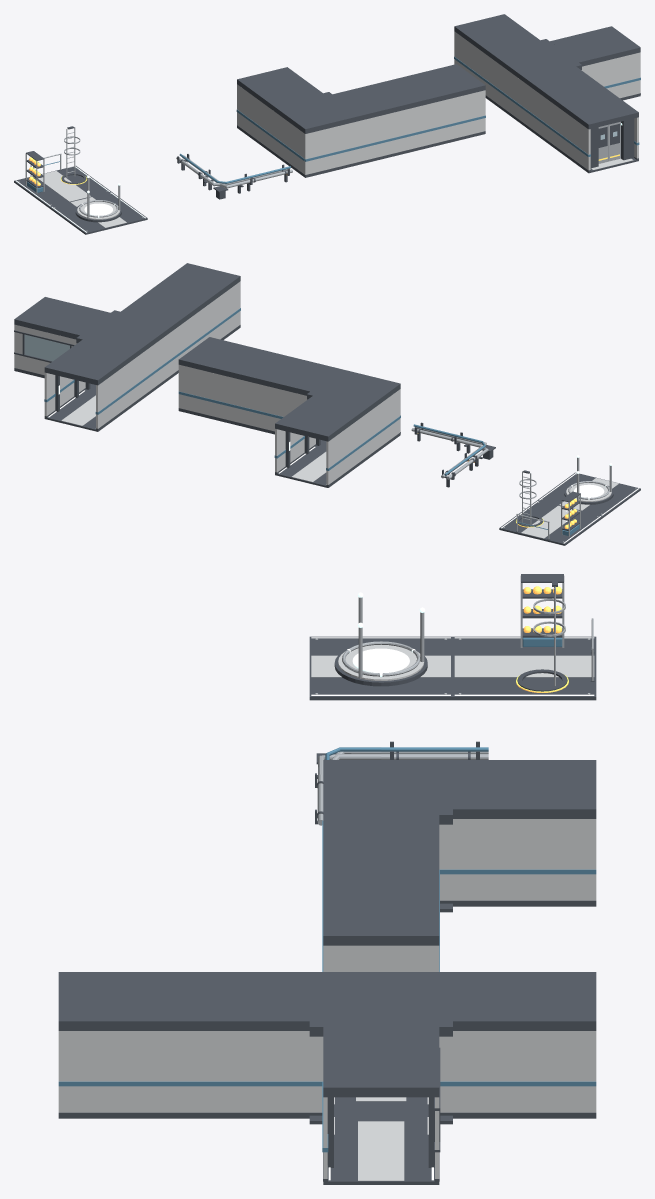
File: spaceship-deck-kit-spaceship-deck-kit-junctions-scene-d5e7b35a__12598.glb
The picture shows the model from 3 angles, top to bottom: view 1: azimuth 30°, elevation 25°; view 2: azimuth 150°, elevation 25°; view 3: azimuth 270°, elevation 25°; orthographic projection. The views are drawn at different scales.
Visible parts, largest first — view 1: 001-corridor-corner/1, 009-airlock-chamber/0, 001-corridor-corner/0, 002-corridor-straight/1, 003-corridor-end/1, 003-corridor-end/0, 002-corridor-straight/0, 004-corridor-tee/0, 007-corridor-window/0, 000-corridor-straight/0, 005-corridor-straight/0, 009-airlock-chamber/1 (+12 smaller); view 2: 000-corridor-straight/0, 005-corridor-straight/0, 000-corridor-straight/1, 005-corridor-straight/1, 003-corridor-end/1, 007-corridor-window/0, 004-corridor-tee/0, 003-corridor-end/0, 001-corridor-corner/0, 002-corridor-straight/0, 009-airlock-chamber/0, 002-corridor-straight/1 (+11 smaller); view 3: 007-corridor-window/0, 000-corridor-straight/1, 005-corridor-straight/1, 009-airlock-chamber/1, 004-corridor-tee/0, 000-corridor-straight/0, 005-corridor-straight/0, 009-airlock-chamber/0, 003-corridor-end/0, 001-corridor-corner/0, 002-corridor-straight/0, 006-corridor-short/1 (+18 smaller).
Boxes of the visible parts, x1,y1,x2,y2 form: 001-corridor-corner/1: (273,110,361,174); 009-airlock-chamber/0: (552,86,638,173); 001-corridor-corner/0: (272,92,361,177); 002-corridor-straight/1: (361,105,423,160); 003-corridor-end/1: (423,90,485,145); 003-corridor-end/0: (395,64,485,148); 002-corridor-straight/0: (333,79,423,163); 004-corridor-tee/0: (490,39,581,126); 007-corridor-window/0: (550,26,640,100); 000-corridor-straight/0: (237,67,322,153); 005-corridor-straight/0: (454,14,539,100); 009-airlock-chamber/1: (553,103,638,170); 000-corridor-straight/0: (275,396,366,487); 005-corridor-straight/0: (44,339,136,431); 000-corridor-straight/1: (275,414,366,484); 005-corridor-straight/1: (44,358,135,428); 003-corridor-end/1: (178,364,244,423); 007-corridor-window/0: (14,297,110,378); 004-corridor-tee/0: (76,310,174,403); 003-corridor-end/0: (178,337,274,426); 001-corridor-corner/0: (307,369,400,459); 002-corridor-straight/0: (244,353,340,434); 009-airlock-chamber/0: (149,263,240,340); 002-corridor-straight/1: (244,381,307,431); 007-corridor-window/0: (323,1027,440,1184); 000-corridor-straight/1: (453,819,596,900); 005-corridor-straight/1: (453,1031,596,1112); 009-airlock-chamber/1: (58,1031,201,1112); 004-corridor-tee/0: (309,972,452,1124); 000-corridor-straight/0: (453,760,596,906); 005-corridor-straight/0: (453,972,596,1118); 009-airlock-chamber/0: (58,972,201,1118); 003-corridor-end/0: (323,875,439,945); 001-corridor-corner/0: (323,760,452,912); 002-corridor-straight/0: (323,815,439,875); 006-corridor-short/1: (238,1031,309,1112).
Size of the model in its own units: 36 by 3.16 by 15.
